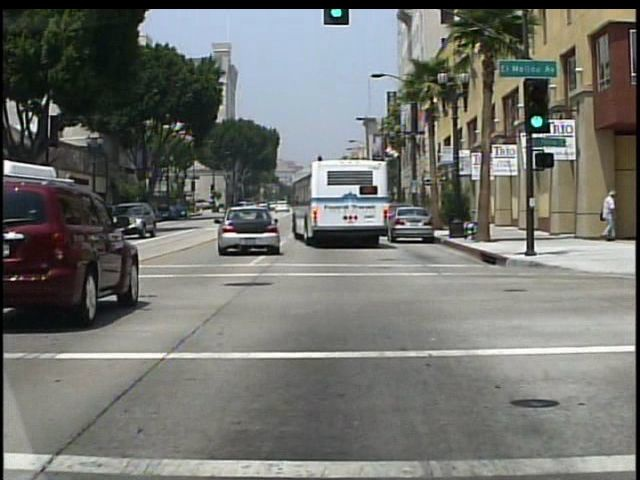person: (598, 191, 621, 244)
